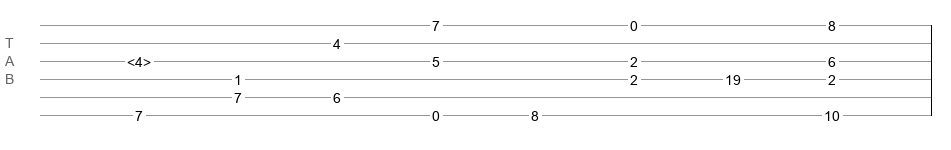0: (432, 108, 440, 118), (630, 18, 638, 28)
1: (234, 72, 242, 82)
10: (824, 108, 840, 118)
19: (725, 72, 741, 82)
2: (630, 54, 638, 64), (630, 72, 638, 82), (828, 72, 836, 82)
4: (333, 36, 341, 46)
5: (432, 54, 440, 64)
6: (333, 90, 341, 100), (828, 54, 836, 64)
7: (135, 108, 143, 118), (234, 90, 242, 100), (432, 18, 440, 28)
8: (531, 108, 539, 118), (828, 18, 836, 28)
harmonic: (127, 54, 151, 64)
